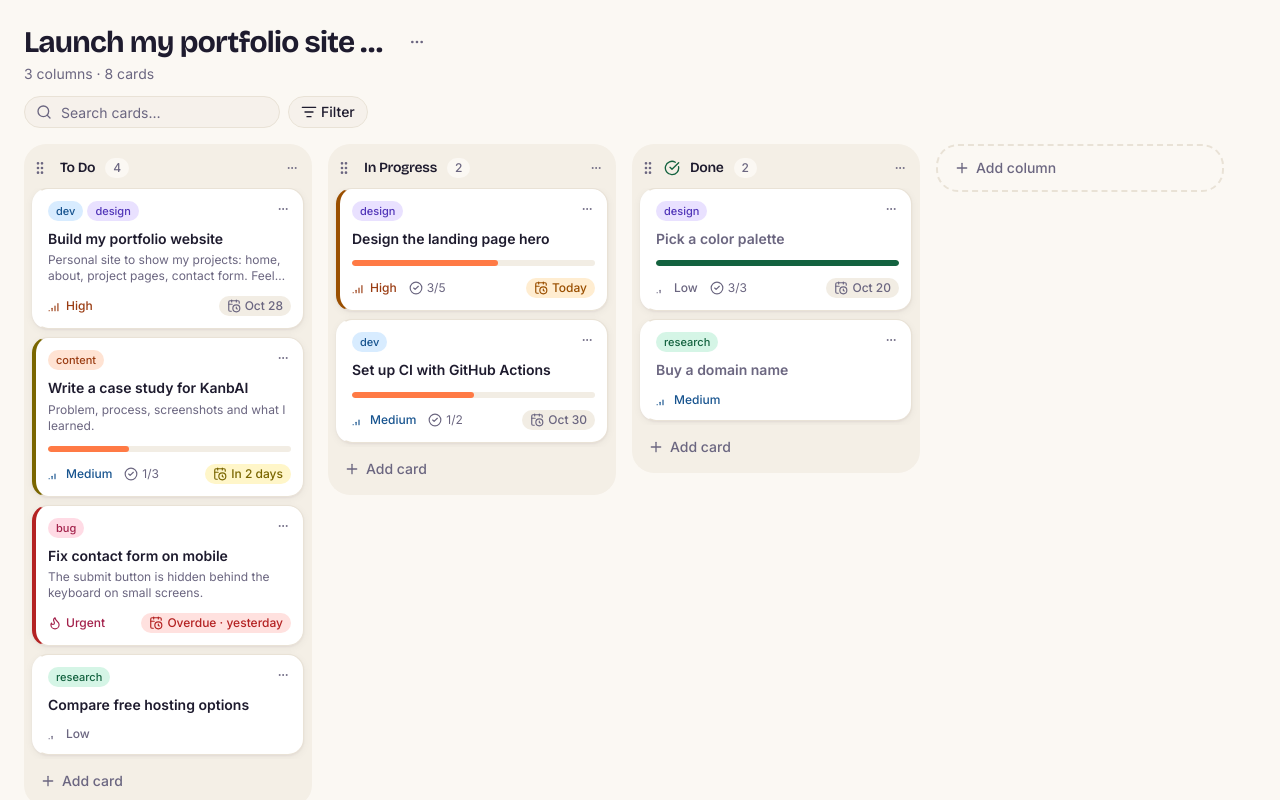
Test: card detail dialog › opens when a card is clicked and shows its details
Click the heading "Fix contact form on mobile" at [138, 555], box [48,546,228,564]
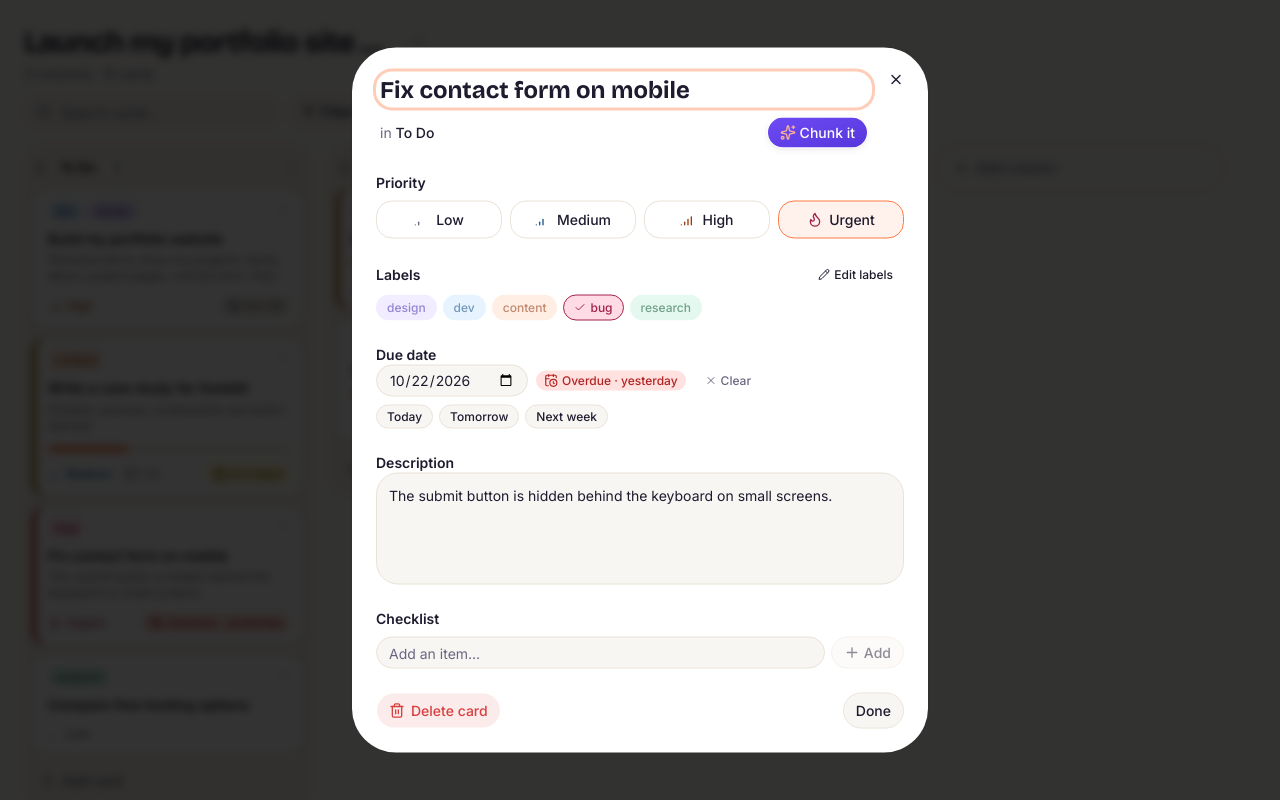
Result: the text box named "Card title" holds "Fix contact form on mobile" at [376,72,872,108]
Result: the text box labelled "Description" holds "The submit button is hidden behind the keyboard on small screens." at [376,472,904,584]
Result: the radio button labelled "Urgent" is checked at [778,200,904,238]
